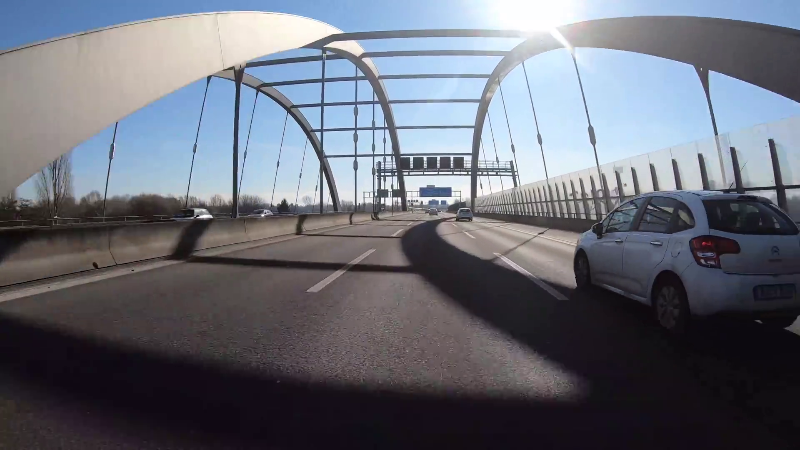Plate: (751, 286, 798, 300)
